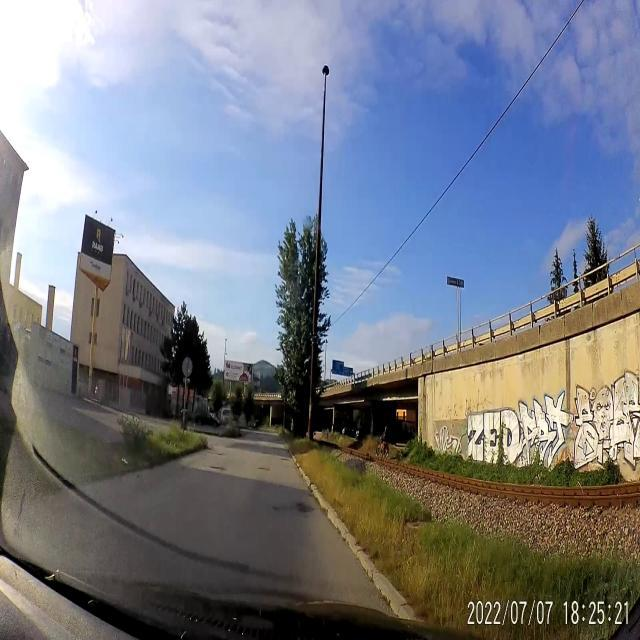Pothole: (269, 495, 315, 520), (208, 461, 226, 474), (258, 462, 272, 474), (212, 450, 226, 458), (278, 456, 292, 463), (262, 450, 272, 457)
